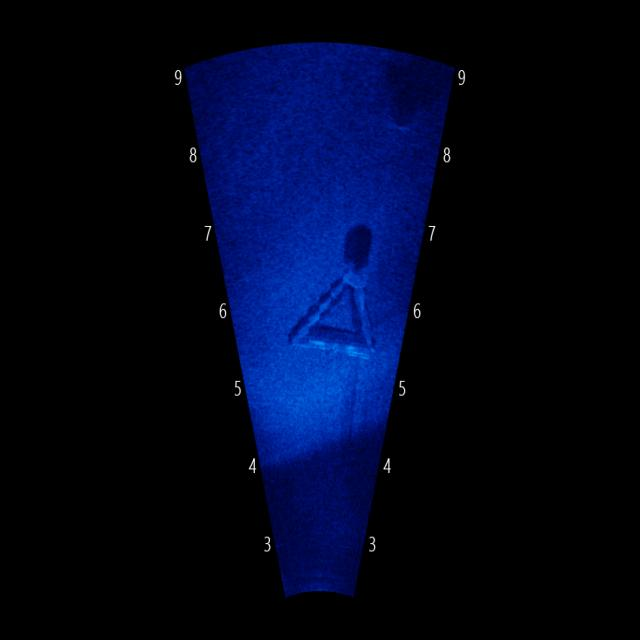triangle: (288, 256, 388, 372)
